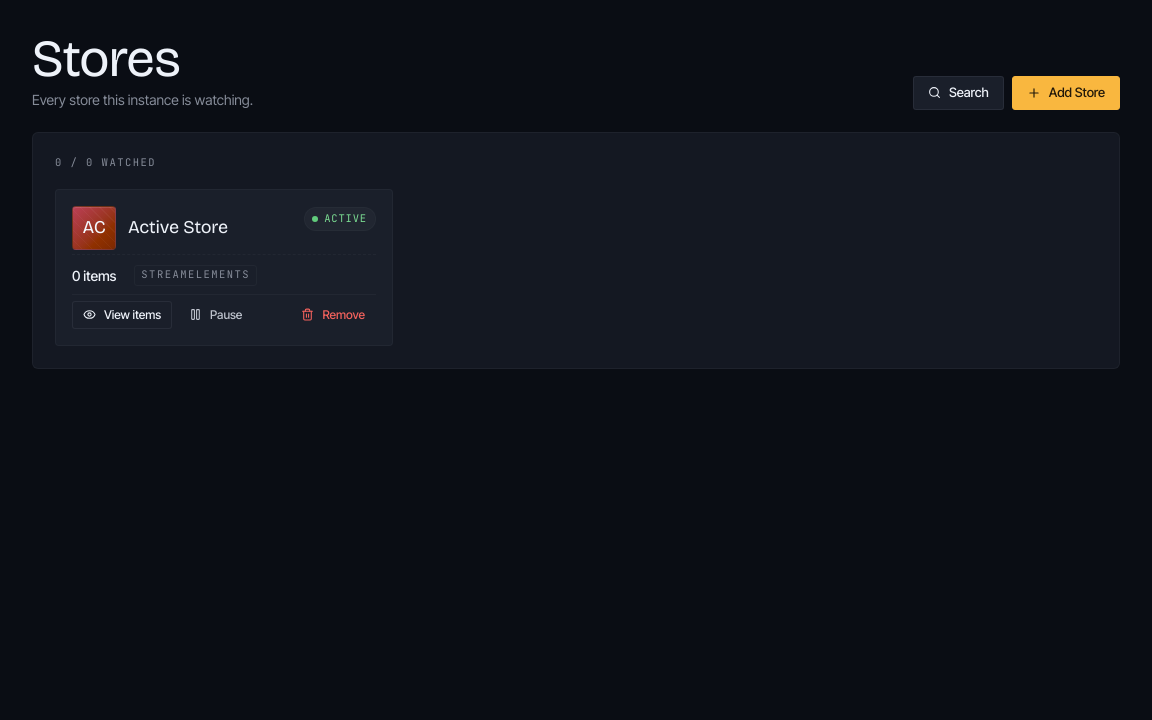
StoresPage › shows error toast when toggle fails
Click the button "Pause" at coordinates (216, 315), box [178, 301, 253, 329]
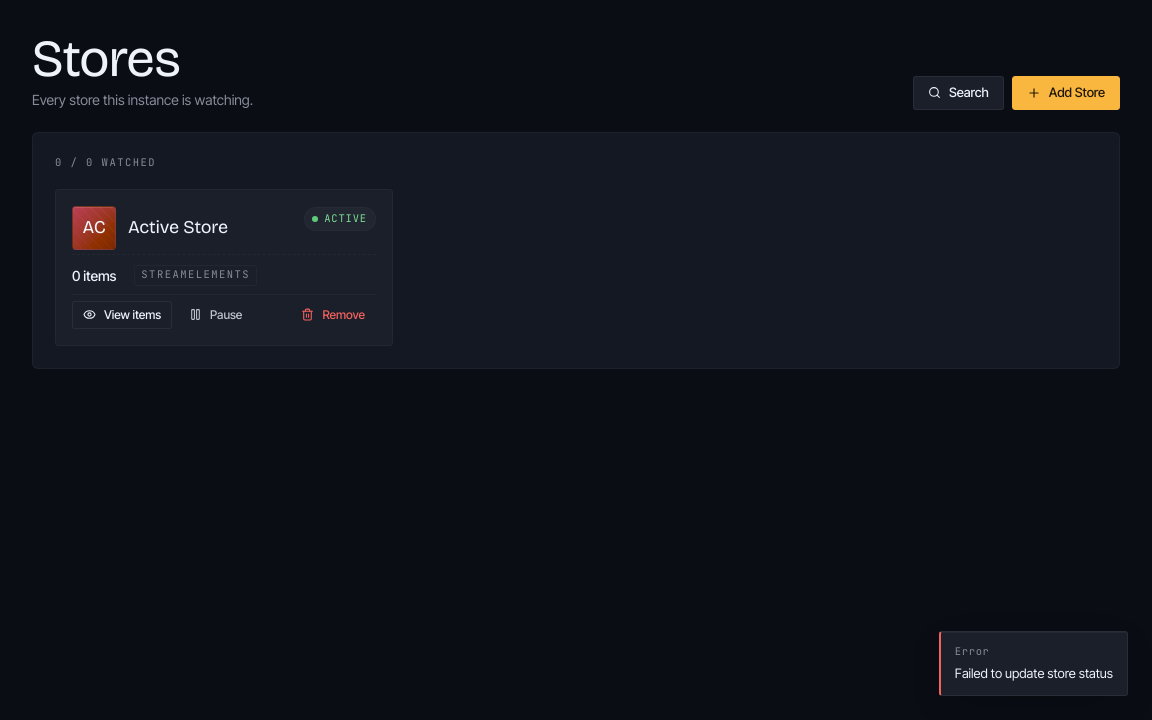
Expected: the text "Failed to update store status" is shown, [955, 664, 1113, 683]
